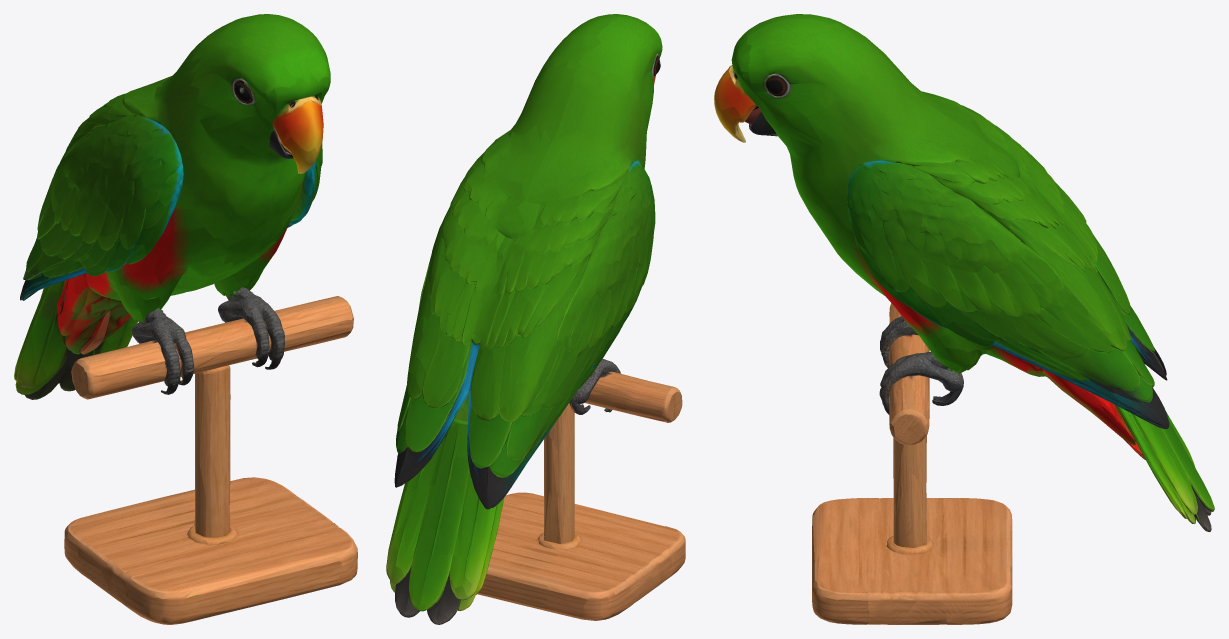
The model's file is jigu-healthy.glb.
3 views of the same model, side by side, from view 1: azimuth 30°, elevation 25°; view 2: azimuth 150°, elevation 25°; view 3: azimuth 270°, elevation 25° (orthographic). The views are drawn at different scales.
Size of the model in its own units: 0.8967 by 1.9 by 1.54.
Materials: 1 (1 with a texture image).
